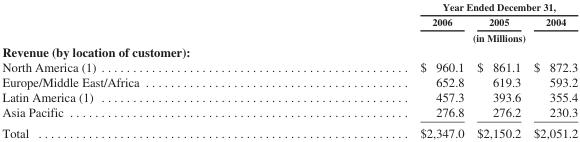table: (1, 0, 577, 139)
table column: (1, 0, 279, 139), (279, 0, 469, 139), (469, 0, 526, 139), (526, 0, 577, 139)
table column header: (1, 0, 577, 43)
table projected row header: (1, 43, 577, 59)
table row: (1, 104, 577, 122), (1, 122, 577, 139), (1, 43, 577, 59), (1, 14, 577, 29), (1, 59, 577, 74), (1, 74, 577, 89), (1, 89, 577, 104), (1, 0, 577, 14), (1, 29, 577, 43)
table spanning cell: (279, 0, 577, 14), (279, 29, 577, 43)
